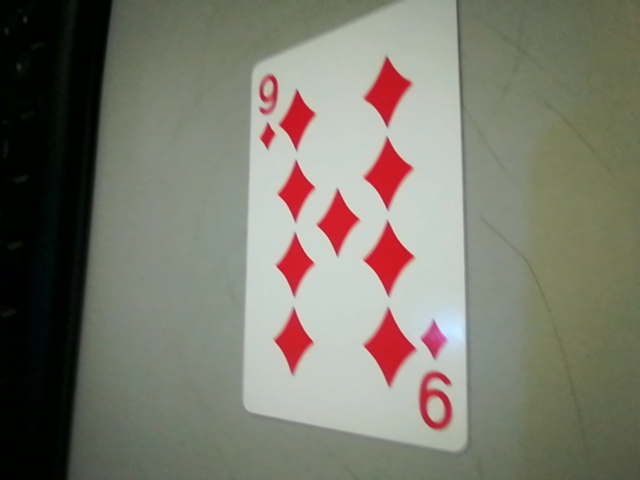fk 9: (408, 309, 466, 445)
